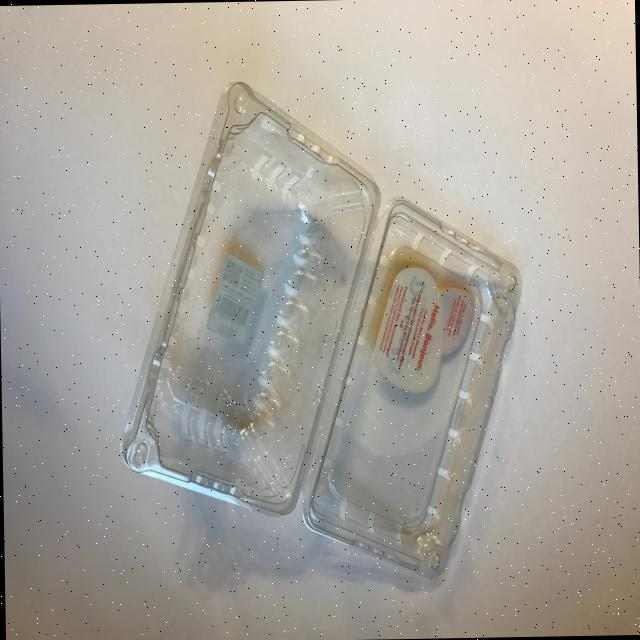plastic: (95, 55, 538, 598)
